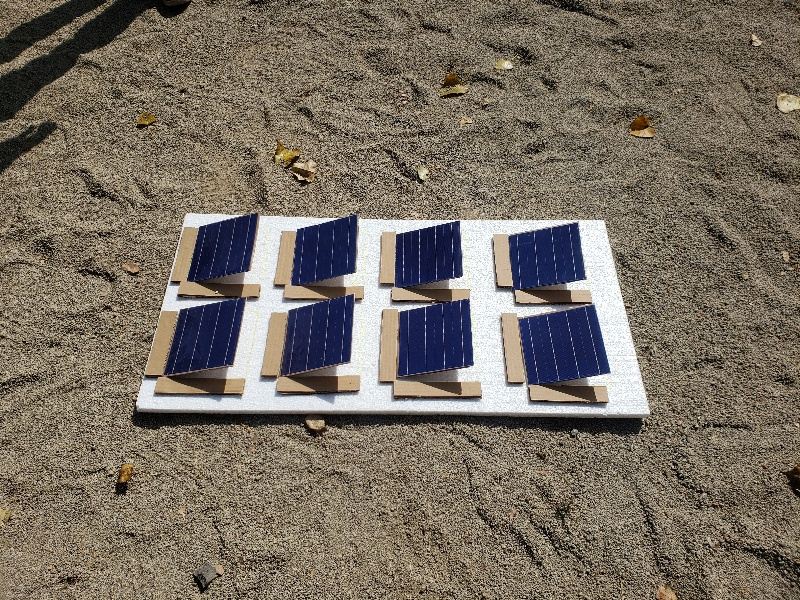clean: (519, 302, 611, 391), (394, 295, 475, 375), (161, 296, 242, 374), (283, 294, 354, 372), (396, 218, 465, 291), (508, 224, 585, 287), (291, 215, 358, 286), (191, 215, 255, 278)
